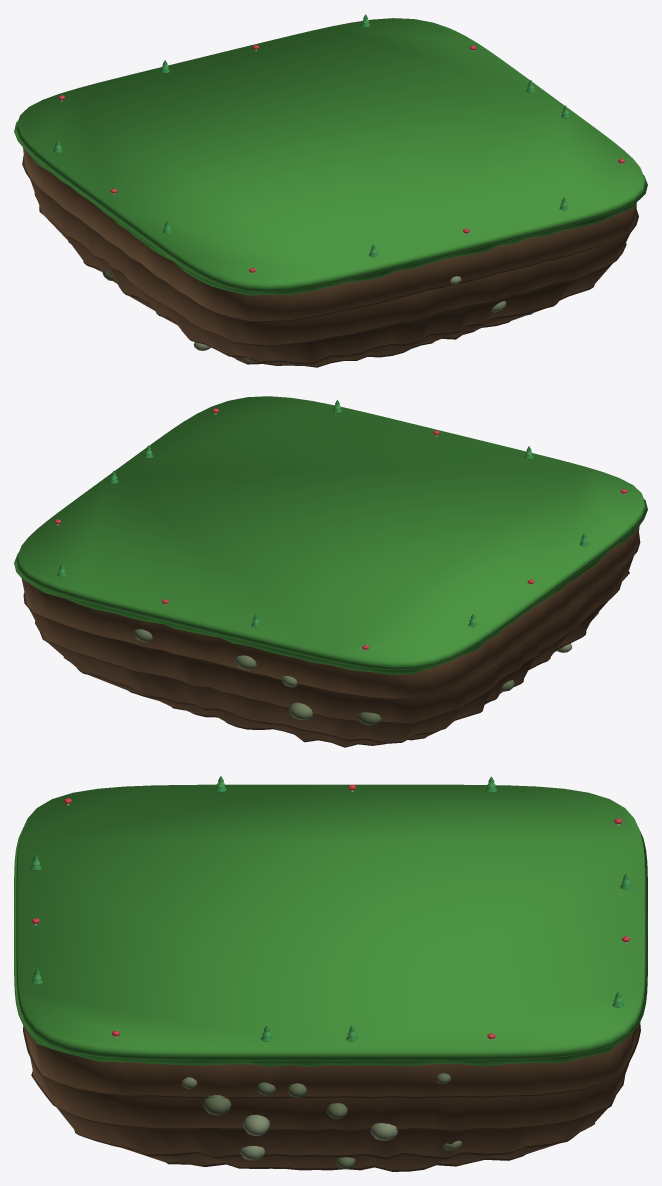
Rendered from island.glb.
3 renders of one model, top to bottom at view 1: azimuth 30°, elevation 25°; view 2: azimuth 150°, elevation 25°; view 3: azimuth 270°, elevation 25°, orthographic. The views are drawn at different scales.
Parts seen in each view (by area): view 1: top; view 2: top; view 3: top.
Boxes of the visible parts, box(x1,y1,x2,y2) form: top: box(14, 14, 647, 367); top: box(14, 396, 647, 747); top: box(14, 776, 647, 1171).
Size of the model in its own units: 9.57 by 3.85 by 9.56.
